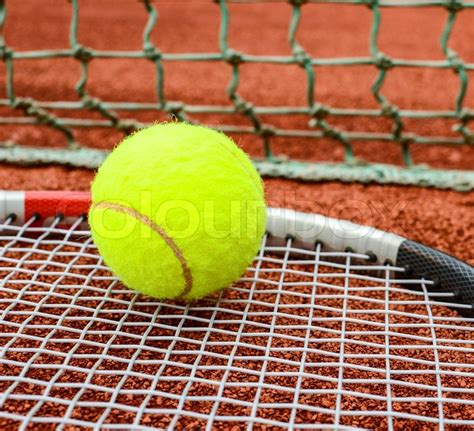tennis_ball: (89, 121, 267, 300)
